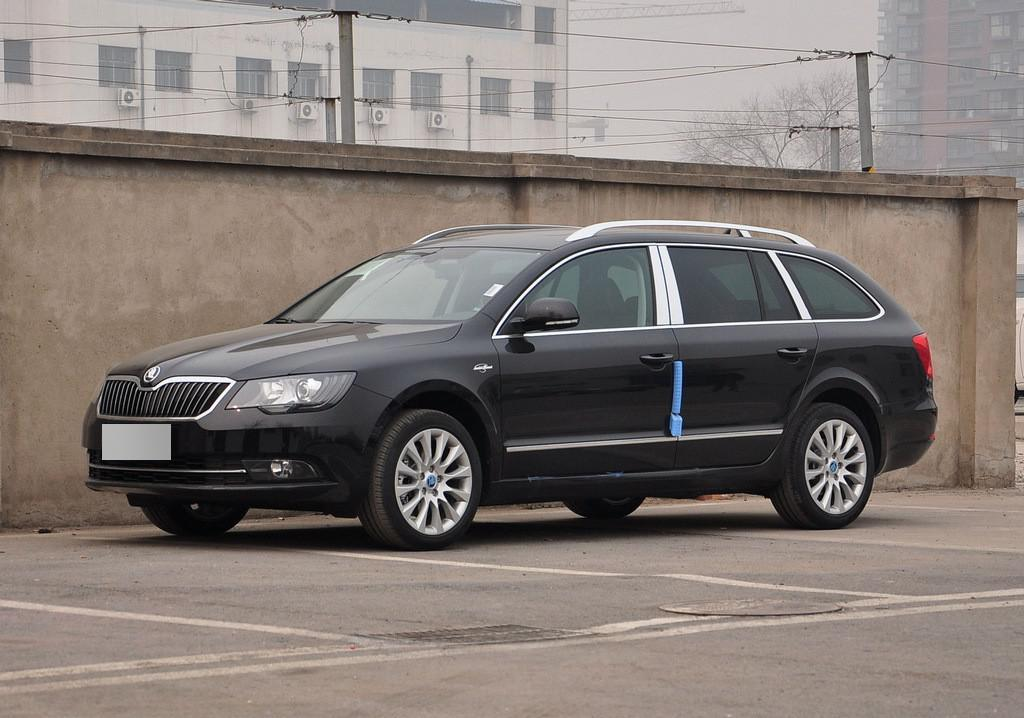Wagon: (80, 219, 939, 549)
